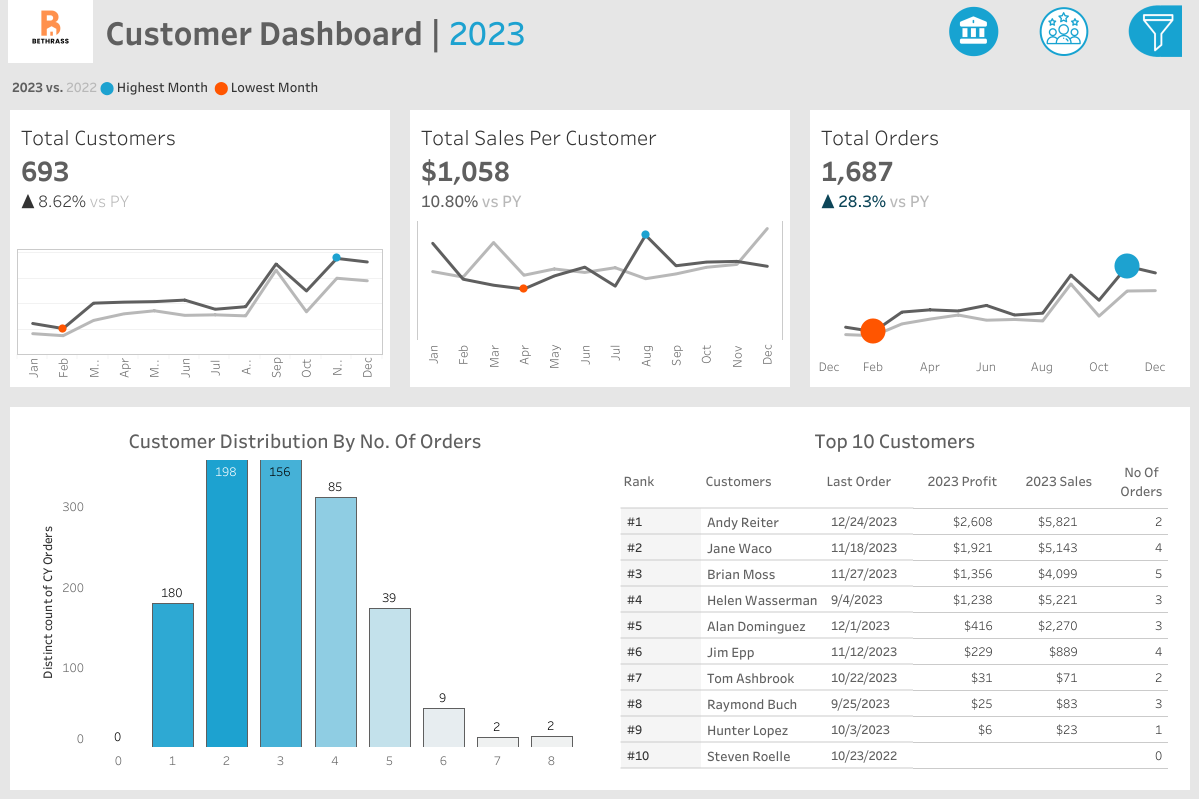

Layout of this report page (visuals, bound fields, positions):
{"tool":"tableau","page":{"name":"Customer Dashboard","canvas":[1200,800],"ordinal":0},"visuals":[{"type":"image","param":"Image/Logo transparent.png","box":[8,0,85,63]},{"type":"text","box":[93,0,835,63]},{"type":"dashboard-object","box":[928,0,91,63]},{"type":"dashboard-object","box":[1019,0,91,63]},{"type":"dashboard-object","box":[1110,0,90,63]},{"type":"worksheet","title":"Legend Of KPI","mark":"Automatic","box":[0,63,1200,47]},{"type":"text","box":[966,66,226,58]},{"type":"worksheet","title":"KPI Customer","mark":"Line","rows":["Calculation_489766516061409285"],"cols":["Order Date"],"box":[0,110,400,287]},{"type":"worksheet","title":"KPI Sales Per Customer","mark":"Line","rows":["Calculation_489766516074848270"],"cols":["Order Date"],"box":[400,110,400,287]},{"type":"worksheet","title":"KPI Orders","mark":"Line","rows":["Calculation_234750187372056576"],"cols":["Order Date"],"box":[800,110,400,287]},{"type":"text","box":[966,124,226,58]},{"type":"parameter","param":"[Parameters].[Parameter 1]","box":[966,182,226,58]},{"type":"text","box":[966,240,226,58]},{"type":"filter","title":"KPI Customer","param":"[federated.0wmqwv60f7k1do107pk571ouo60p].[none:Category:nk]","box":[966,298,226,58]},{"type":"filter","title":"KPI Customer","param":"[federated.0wmqwv60f7k1do107pk571ouo60p].[none:Sub-Category:nk]","box":[966,356,226,57]},{"type":"blank","box":[966,413,226,57]},{"type":"text","box":[27,424,556,32]},{"type":"text","box":[617,424,556,33]},{"type":"worksheet","title":"Customer Distribution","mark":"Bar","rows":["Calculation_489766516077735951"],"cols":["Calculation_489766516081500177"],"box":[27,456,556,317]},{"type":"text","box":[617,457,82,47]},{"type":"text","box":[699,457,121,47]},{"type":"text","box":[820,457,101,47]},{"type":"text","box":[921,457,98,47]},{"type":"text","box":[1019,457,91,47]},{"type":"text","box":[1110,457,63,47]},{"type":"text","box":[966,470,226,57]},{"type":"worksheet","title":"Top Customer","mark":"Automatic","rows":["Calculation_83035175123599362","Customer Name","Order Date"],"box":[617,504,556,269]},{"type":"filter","title":"KPI Customer","param":"[federated.0wmqwv60f7k1do107pk571ouo60p].[none:Region:nk]","box":[966,527,226,57]},{"type":"filter","title":"KPI Customer","param":"[federated.0wmqwv60f7k1do107pk571ouo60p].[none:State:nk]","box":[966,584,226,57]},{"type":"filter","title":"KPI Customer","param":"[federated.0wmqwv60f7k1do107pk571ouo60p].[none:City:nk]","box":[966,641,226,57]}]}

Visuals, with their boxes in screenshot pixels (x1, y1, x2, y2), scaled from the page's 1200x800 canvas onto the 1199x799 screenshot:
image: [left=8, top=0, right=93, bottom=63]
text: [left=93, top=0, right=927, bottom=63]
dashboard-object: [left=927, top=0, right=1018, bottom=63]
dashboard-object: [left=1018, top=0, right=1109, bottom=63]
dashboard-object: [left=1109, top=0, right=1198, bottom=63]
"Legend Of KPI" worksheet: [left=0, top=63, right=1198, bottom=110]
text: [left=965, top=66, right=1191, bottom=124]
"KPI Customer" worksheet (Line marks): [left=0, top=110, right=400, bottom=397]
"KPI Sales Per Customer" worksheet (Line marks): [left=400, top=110, right=799, bottom=397]
"KPI Orders" worksheet (Line marks): [left=799, top=110, right=1198, bottom=397]
text: [left=965, top=124, right=1191, bottom=182]
parameter: [left=965, top=182, right=1191, bottom=240]
text: [left=965, top=240, right=1191, bottom=298]
"KPI Customer" filter: [left=965, top=298, right=1191, bottom=356]
"KPI Customer" filter: [left=965, top=356, right=1191, bottom=412]
blank: [left=965, top=412, right=1191, bottom=469]
text: [left=27, top=423, right=583, bottom=455]
text: [left=616, top=423, right=1172, bottom=456]
"Customer Distribution" worksheet (Bar marks): [left=27, top=455, right=583, bottom=772]
text: [left=616, top=456, right=698, bottom=503]
text: [left=698, top=456, right=819, bottom=503]
text: [left=819, top=456, right=920, bottom=503]
text: [left=920, top=456, right=1018, bottom=503]
text: [left=1018, top=456, right=1109, bottom=503]
text: [left=1109, top=456, right=1172, bottom=503]
text: [left=965, top=469, right=1191, bottom=526]
"Top Customer" worksheet: [left=616, top=503, right=1172, bottom=772]
"KPI Customer" filter: [left=965, top=526, right=1191, bottom=583]
"KPI Customer" filter: [left=965, top=583, right=1191, bottom=640]
"KPI Customer" filter: [left=965, top=640, right=1191, bottom=697]
